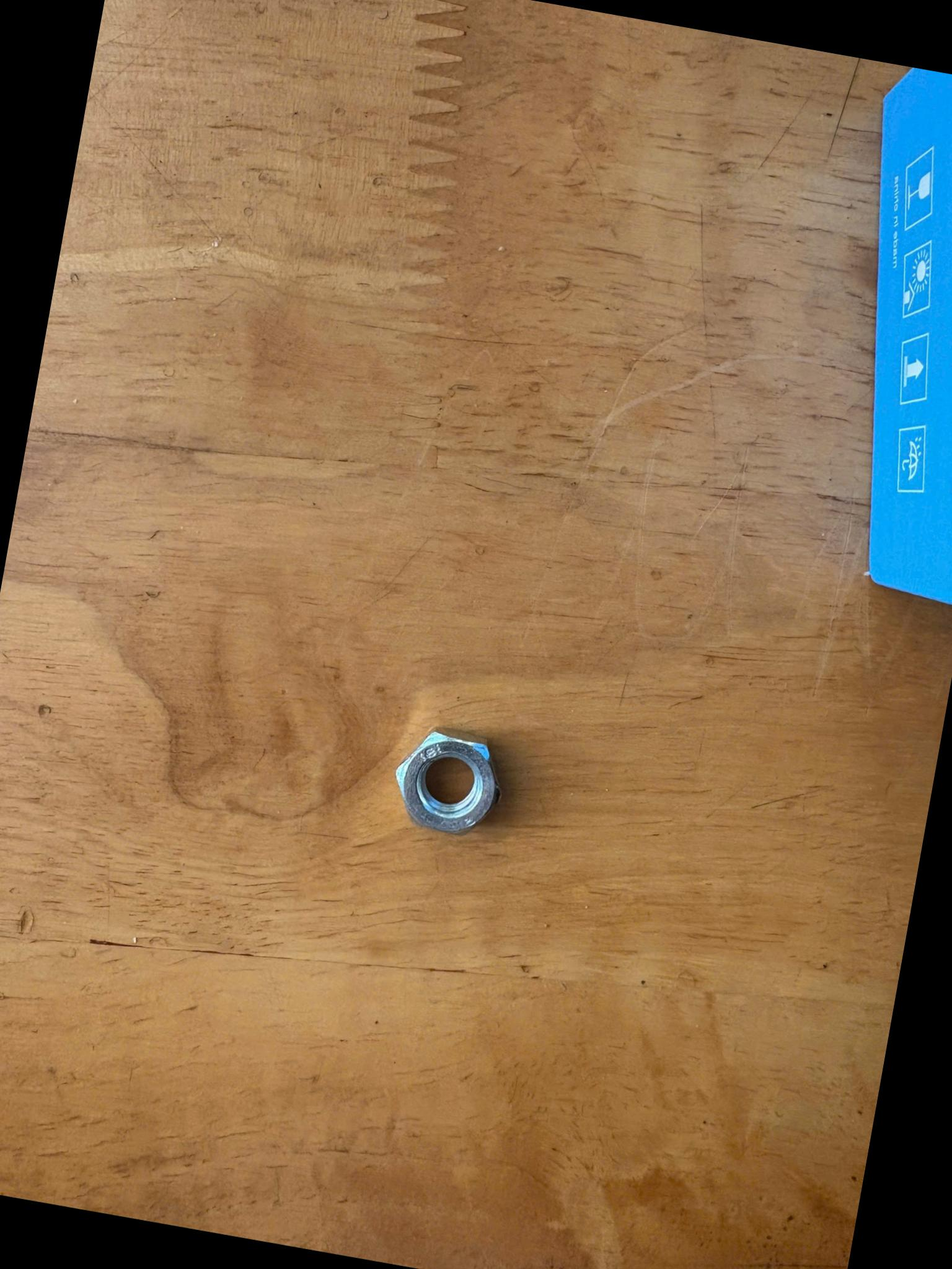nut: (377, 710, 522, 864)
